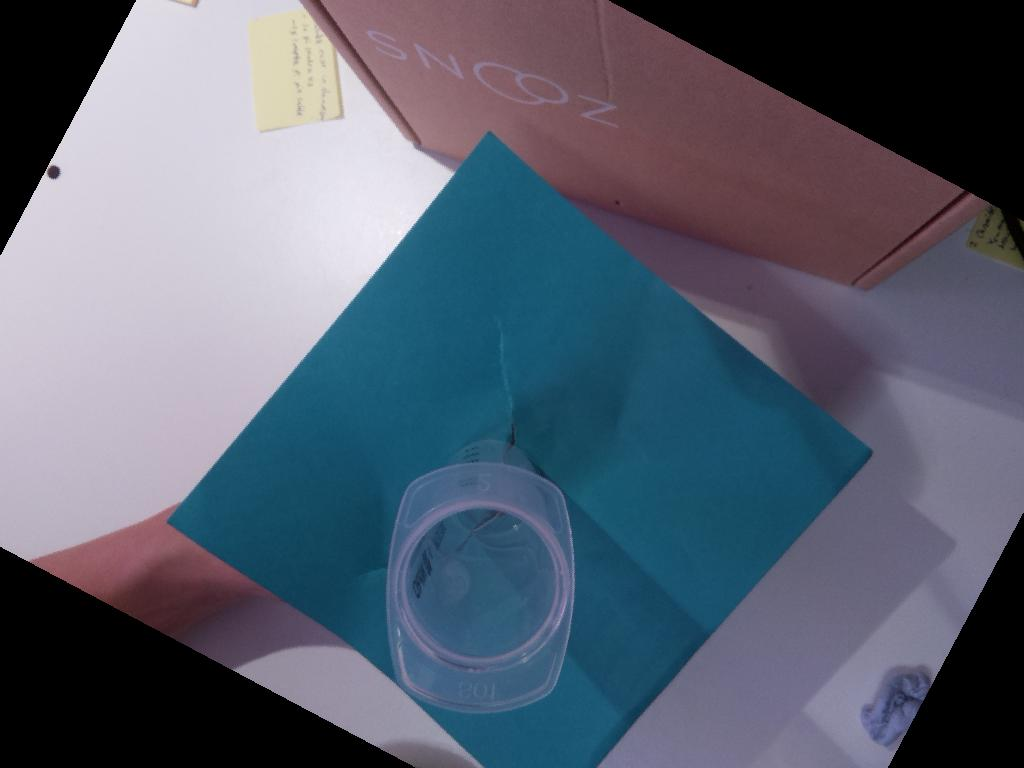clean: (382, 459, 581, 709)
